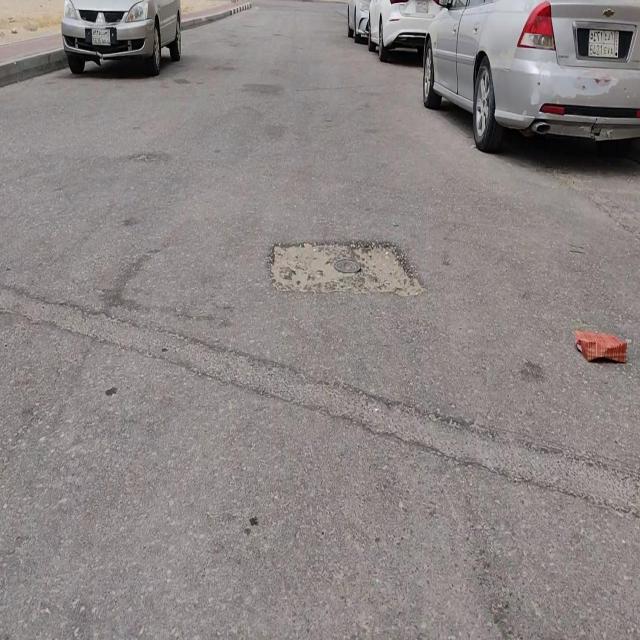Potholes: (268, 235, 425, 295)
